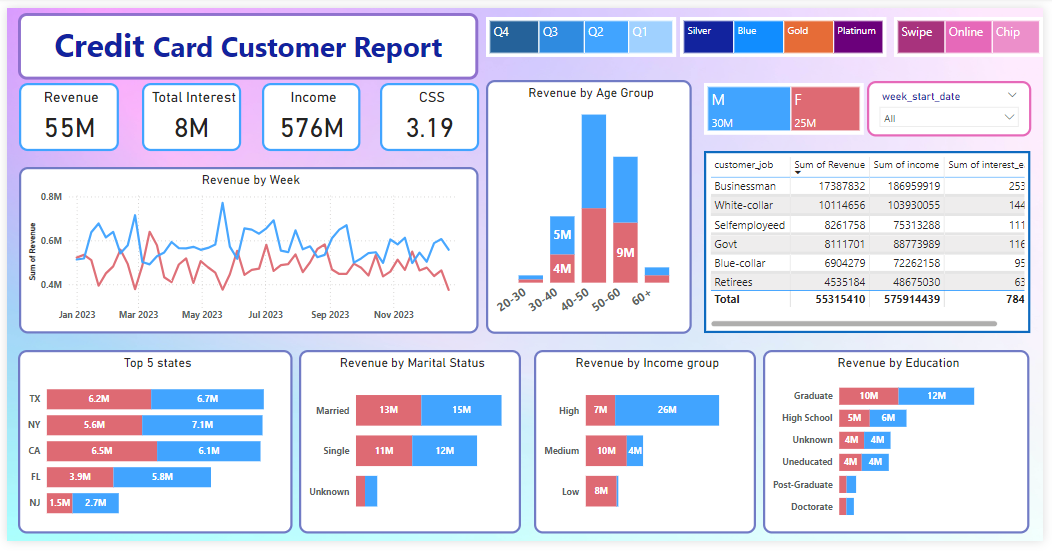

The page's visual inventory and layout, read from the dashboard file:
{"tool":"powerbi","page":{"name":"CC Customer","canvas":[1400,720],"ordinal":2},"visuals":[{"type":"textbox","box":[14.3,6.3,622.2,90.5],"z":0},{"type":"tableEx","fields":{"Values":["public cust_detail.customer_job","Sum(public cc_detail.Revenue)","Sum(public cust_detail.income)","Sum(public cc_detail.interest_earned)"]},"box":[941.3,193.7,441.3,246],"z":1000},{"type":"card","title":"Revenue","fields":{"Values":["Sum(public cc_detail.Revenue)"]},"box":[15.9,101.6,134.9,92.1],"z":2000},{"type":"card","title":"Total Interest","fields":{"Values":["Sum(public cc_detail.interest_earned)"]},"box":[182.7,101.9,134,92.3],"z":3000},{"type":"card","title":"Income","fields":{"Values":["Sum(public cust_detail.income)"]},"box":[344.4,101.6,133.3,92.1],"z":4000},{"type":"card","title":"CSS","fields":{"Values":["Avg(public cust_detail.cust_satisfaction_score)"]},"box":[503.8,101.9,134,92.3],"z":5000},{"type":"treemap","fields":{"Group":["public cc_detail.qtr"],"Values":["Avg(public cc_detail.client_num)"]},"box":[647.6,12.7,257.1,54],"z":6000},{"type":"treemap","fields":{"Values":["Avg(public cc_detail.client_num)"],"Group":["public cc_detail.card_category"]},"box":[909.5,12.7,279.4,54],"z":7000},{"type":"barChart","title":"Revenue by Income group","fields":{"Y":["Sum(public cc_detail.Revenue)"],"Category":["public cust_detail.IncomeGroup"],"Series":["public cust_detail.gender"]},"box":[712.7,461.9,300,247.6],"z":8000},{"type":"lineChart","title":"Revenue by Week","fields":{"Y":["Sum(public cc_detail.Revenue)"],"Series":["public cust_detail.gender"],"Category":["public cc_detail.week_start_date.Variation.Date Hierarchy.Year","public cc_detail.week_start_date.Variation.Date Hierarchy.Quarter","public cc_detail.week_start_date.Variation.Date Hierarchy.Month","public cc_detail.week_start_date.Variation.Date Hierarchy.Day"]},"box":[15.9,214.3,620.6,225.4],"z":9000},{"type":"treemap","fields":{"Group":["public cust_detail.gender"],"Values":["Sum(public cc_detail.Revenue)"]},"box":[941.3,101.6,215.9,69.8],"z":10000},{"type":"columnChart","title":"Revenue by Age Group","fields":{"Category":["public cust_detail.AgeGroup"],"Y":["Sum(public cc_detail.Revenue)"],"Series":["public cust_detail.gender"]},"box":[647.6,96.8,277.8,342.9],"z":11000},{"type":"barChart","title":"Revenue by Education","fields":{"Y":["Sum(public cc_detail.Revenue)"],"Category":["public cust_detail.education_level"],"Series":["public cust_detail.gender"]},"box":[1022.2,461.9,360.3,247.6],"z":12000},{"type":"barChart","title":"Top 5 states","fields":{"Y":["Sum(public cc_detail.Revenue)"],"Category":["public cust_detail.state_cd"],"Series":["public cust_detail.gender"]},"box":[14.3,461.9,371.4,247.6],"z":13000},{"type":"barChart","title":"Revenue by Marital Status","fields":{"Y":["Sum(public cc_detail.Revenue)"],"Category":["public cust_detail.marital_status"],"Series":["public cust_detail.gender"]},"box":[395.2,461.9,300,247.6],"z":14000},{"type":"slicer","fields":{"Values":["public cc_detail.week_start_date"]},"box":[1161.9,98.4,222.2,74.6],"z":15000},{"type":"treemap","fields":{"Group":["public cc_detail.use_chip"],"Values":["Avg(public cc_detail.client_num)"]},"box":[1198.4,12.7,201.6,54],"z":16000}]}

Visuals, with their boxes in screenshot pixels (x1, y1, x2, y2), scaled from the page's 1400x720 canvas onto the 1052x551 screenshot:
textbox: bbox=[11, 5, 478, 74]
tableEx - public cust_detail.customer_job x Sum(public cc_detail.Revenue): bbox=[707, 148, 1039, 336]
"Revenue" card: bbox=[12, 78, 113, 148]
"Total Interest" card: bbox=[137, 78, 238, 149]
"Income" card: bbox=[259, 78, 359, 148]
"CSS" card: bbox=[379, 78, 479, 149]
treemap - public cc_detail.qtr x Avg(public cc_detail.client_num): bbox=[487, 10, 680, 51]
treemap - Avg(public cc_detail.client_num) x public cc_detail.card_category: bbox=[683, 10, 893, 51]
"Revenue by Income group" barChart: bbox=[536, 353, 761, 543]
"Revenue by Week" lineChart: bbox=[12, 164, 478, 336]
treemap - public cust_detail.gender x Sum(public cc_detail.Revenue): bbox=[707, 78, 870, 131]
"Revenue by Age Group" columnChart: bbox=[487, 74, 695, 336]
"Revenue by Education" barChart: bbox=[768, 353, 1039, 543]
"Top 5 states" barChart: bbox=[11, 353, 290, 543]
"Revenue by Marital Status" barChart: bbox=[297, 353, 522, 543]
slicer - public cc_detail.week_start_date: bbox=[873, 75, 1040, 132]
treemap - public cc_detail.use_chip x Avg(public cc_detail.client_num): bbox=[901, 10, 1051, 51]
